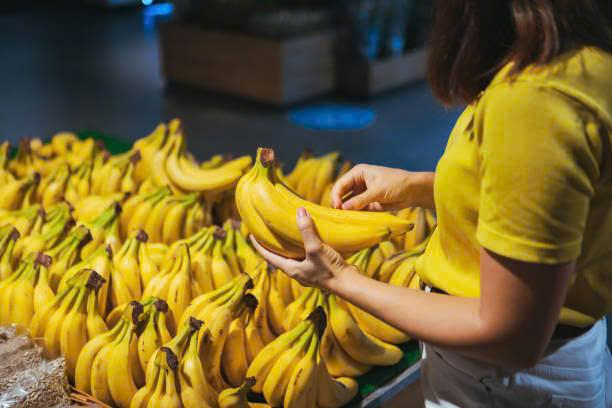banana: (234, 141, 415, 259), (246, 306, 359, 408)
